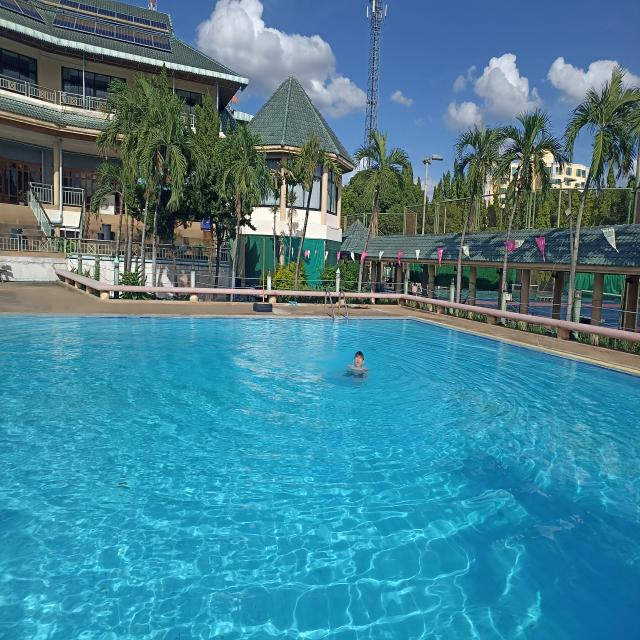Swimming: (341, 348, 374, 386)
